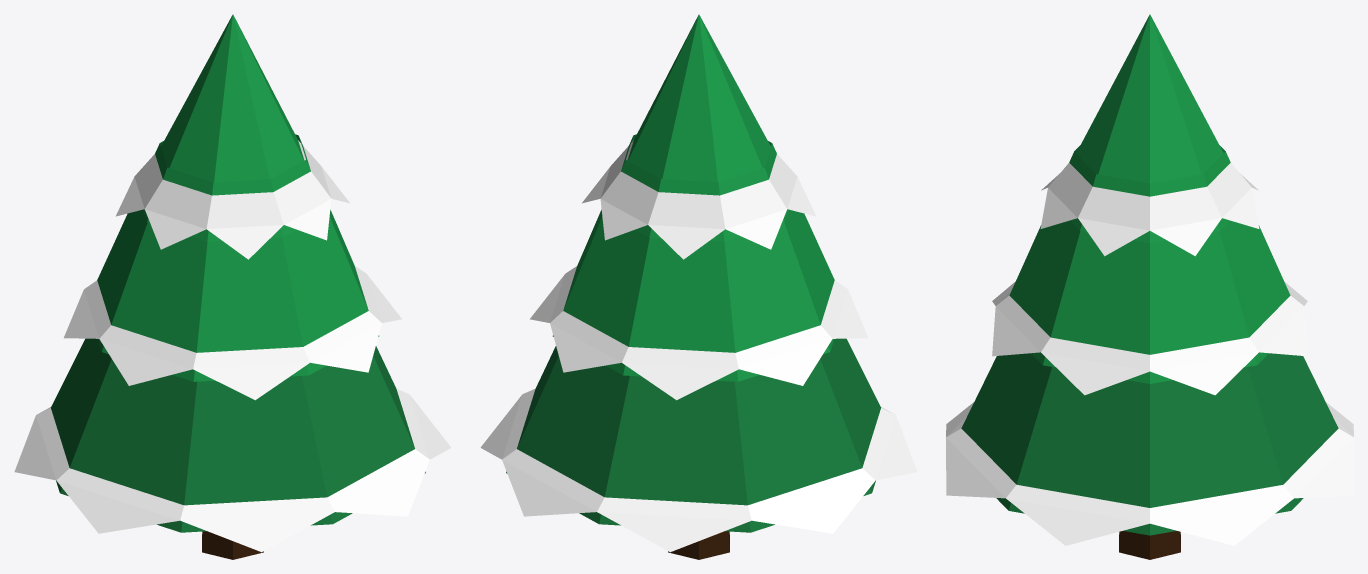
Rendered from fir_tree.fbx.
3 renders of one model, left to right at view 1: azimuth 30°, elevation 25°; view 2: azimuth 150°, elevation 25°; view 3: azimuth 270°, elevation 25°, orthographic.
Parts seen in each view (by area): view 1: FirTree; view 2: FirTree; view 3: FirTree.
Part boxes in pixels (bbox=[...]): FirTree: bbox=[14, 14, 451, 559]; FirTree: bbox=[480, 14, 917, 559]; FirTree: bbox=[946, 14, 1353, 559].
Bounding box in the file's own units: 2.96 × 4.25 × 2.96.
